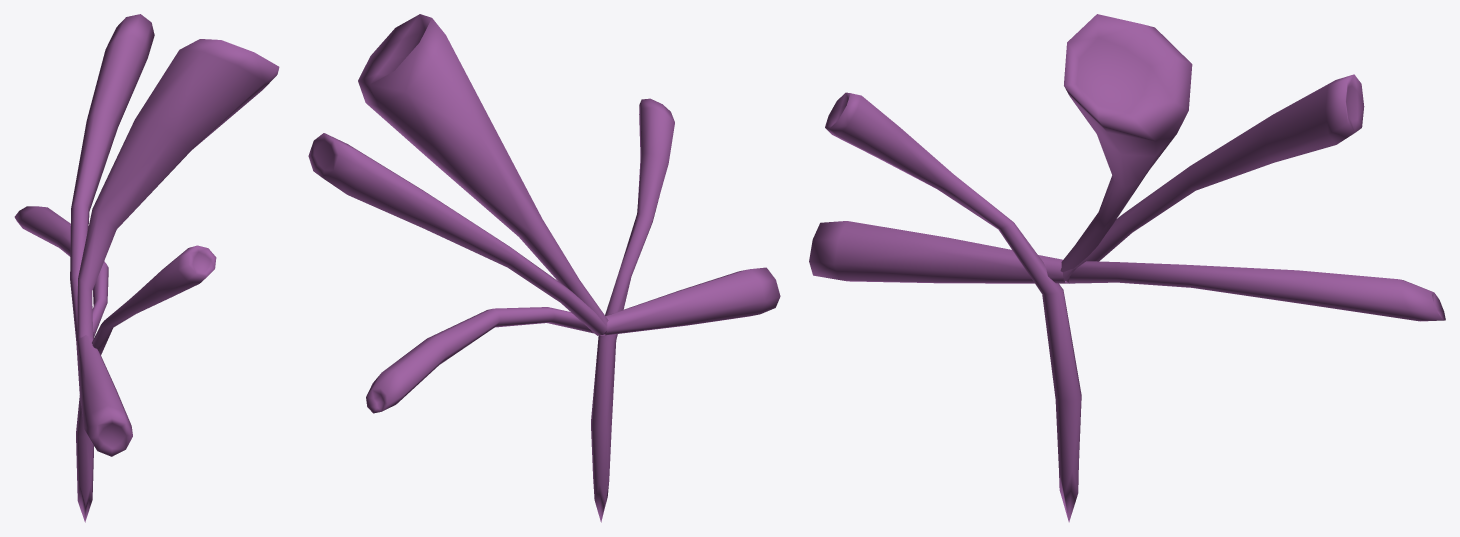
The model's file is coral_model.fbx.
3 renders of one model, left to right at view 1: azimuth 30°, elevation 25°; view 2: azimuth 150°, elevation 25°; view 3: azimuth 270°, elevation 25°, orthographic. The views are drawn at different scales.
Visible parts, largest first — view 1: tree; view 2: tree; view 3: tree.
Boxes of the visible parts, x1,y1,x2,y2 form: tree: (14,14,279,522); tree: (308,14,780,522); tree: (809,14,1445,522).
Bounding box in the file's own units: 0.676 × 1 × 0.9514.
